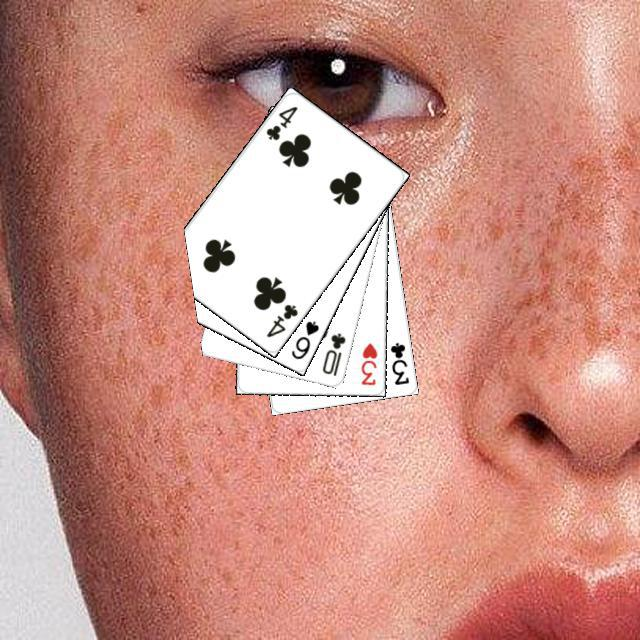10c: (317, 328, 347, 378)
3c: (385, 337, 411, 386)
3h: (356, 338, 379, 387)
4c: (261, 101, 300, 142), (261, 299, 300, 339)
6s: (286, 316, 321, 361)
